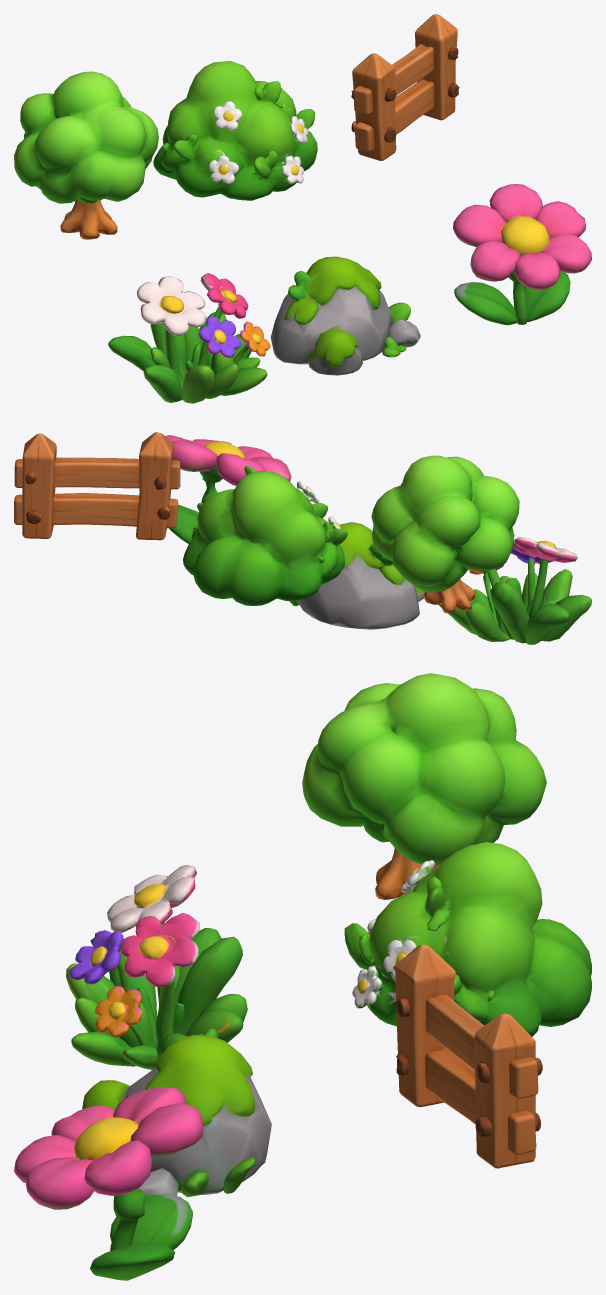
The model's file is props_meadow.glb.
3 views of the same model, one above another, from view 1: azimuth 30°, elevation 25°; view 2: azimuth 150°, elevation 25°; view 3: azimuth 270°, elevation 25° (orthographic). The views are drawn at different scales.
Bounding box in the file's own units: 0.9487 × 0.4858 × 0.7002.
Materials: 1 (1 with a texture image).
